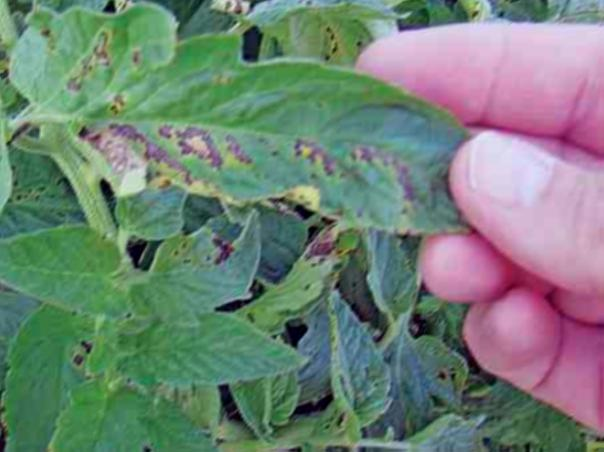Tomato Early blight leaf: (0, 0, 462, 232)
Tomato leaf: (0, 229, 138, 319), (142, 323, 306, 385), (132, 399, 235, 452)
